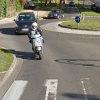Motorcycle: (19, 22, 52, 59)
